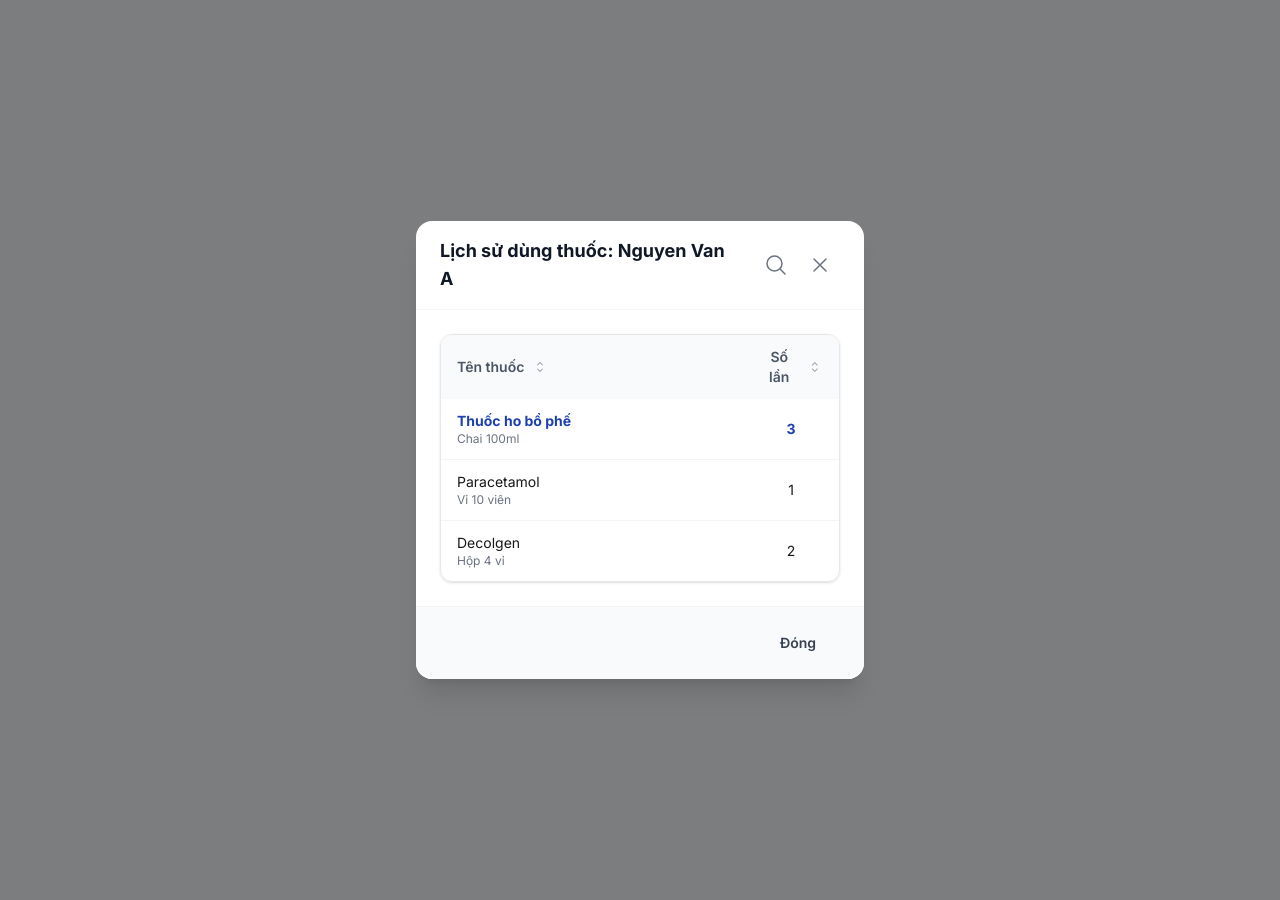
Test: MedicineUsageDialog - Phase 01 & 02 Tests › filters by name and packing specification (Vietnamese & case-insensitive)
expect the table is shown: met, box [441,335,839,581]
# Toggle search
Click the button named "toggle search": click(776, 265) [756,245,796,285]
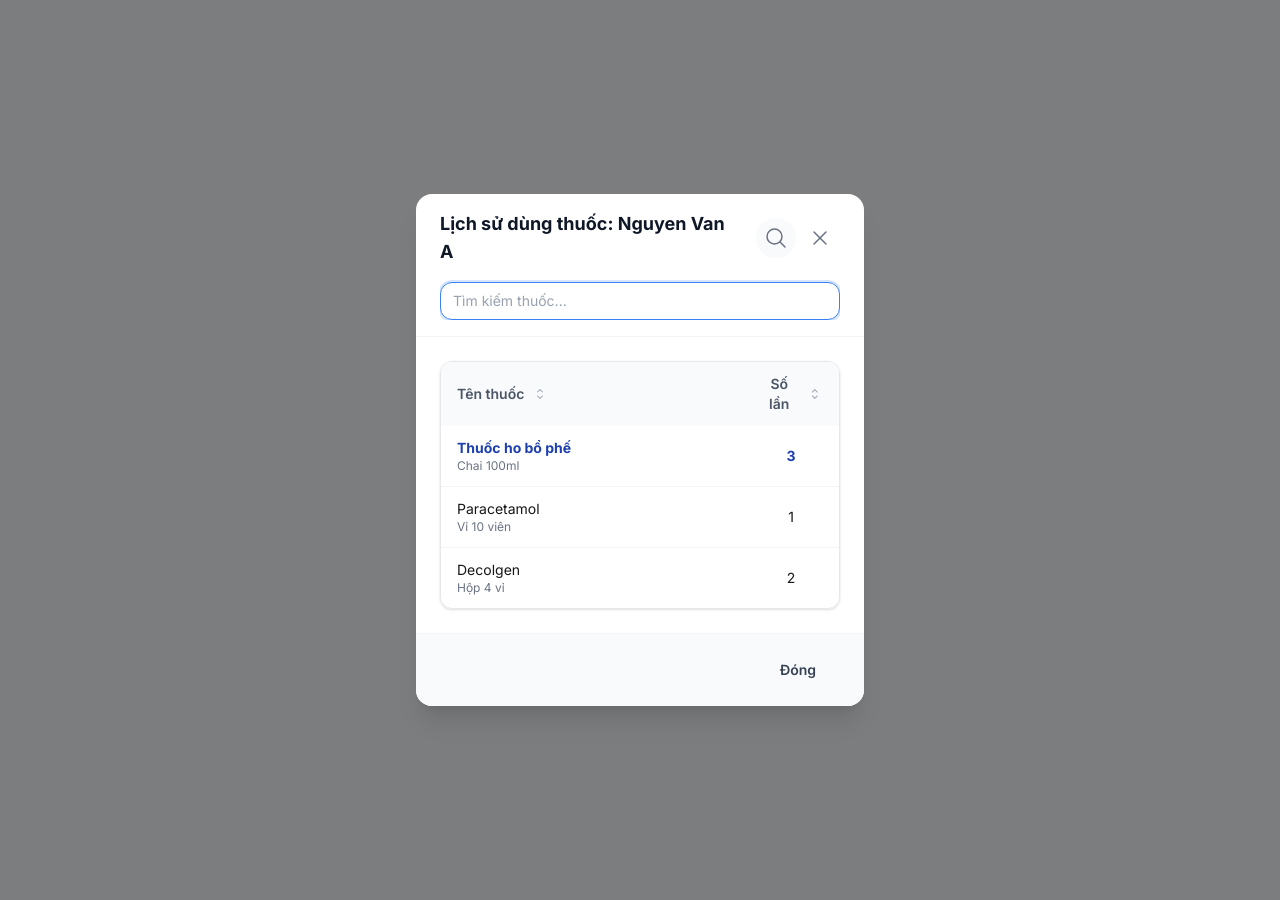
In the field with placeholder "Tìm kiếm thuốc...": (640, 301) [440,282,840,320], type "thuoc ho"
Wait 300 ms
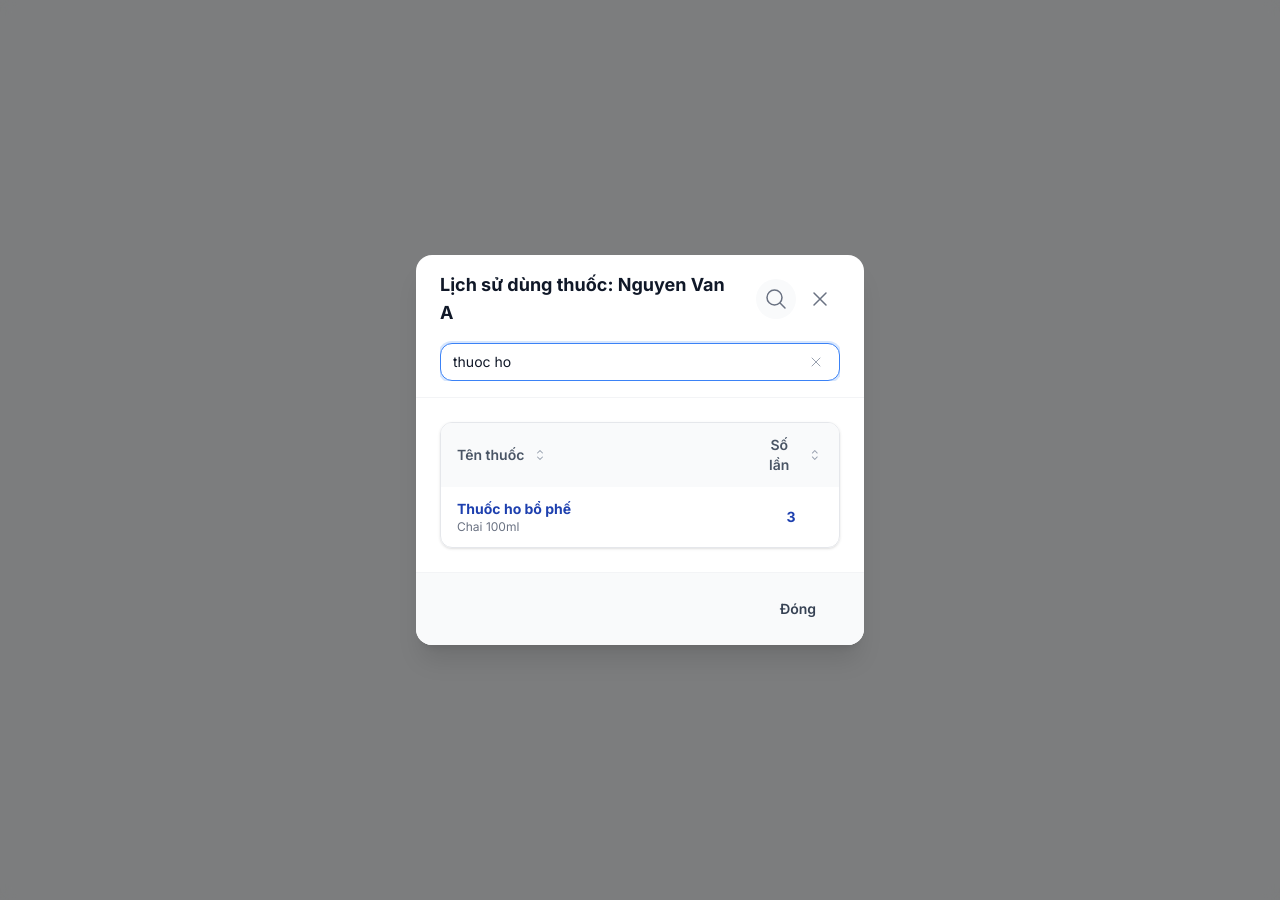
expect the text "Thuốc ho bổ phế" is shown: met, box [457,500,571,517]
expect the text "Paracetamol" is gone: met
expect the text "Decolgen" is gone: met
Replace the text in the field with placeholder "Tìm kiếm thuốc..." with "VI": (640, 362) [440,343,840,381]
Wait 300 ms
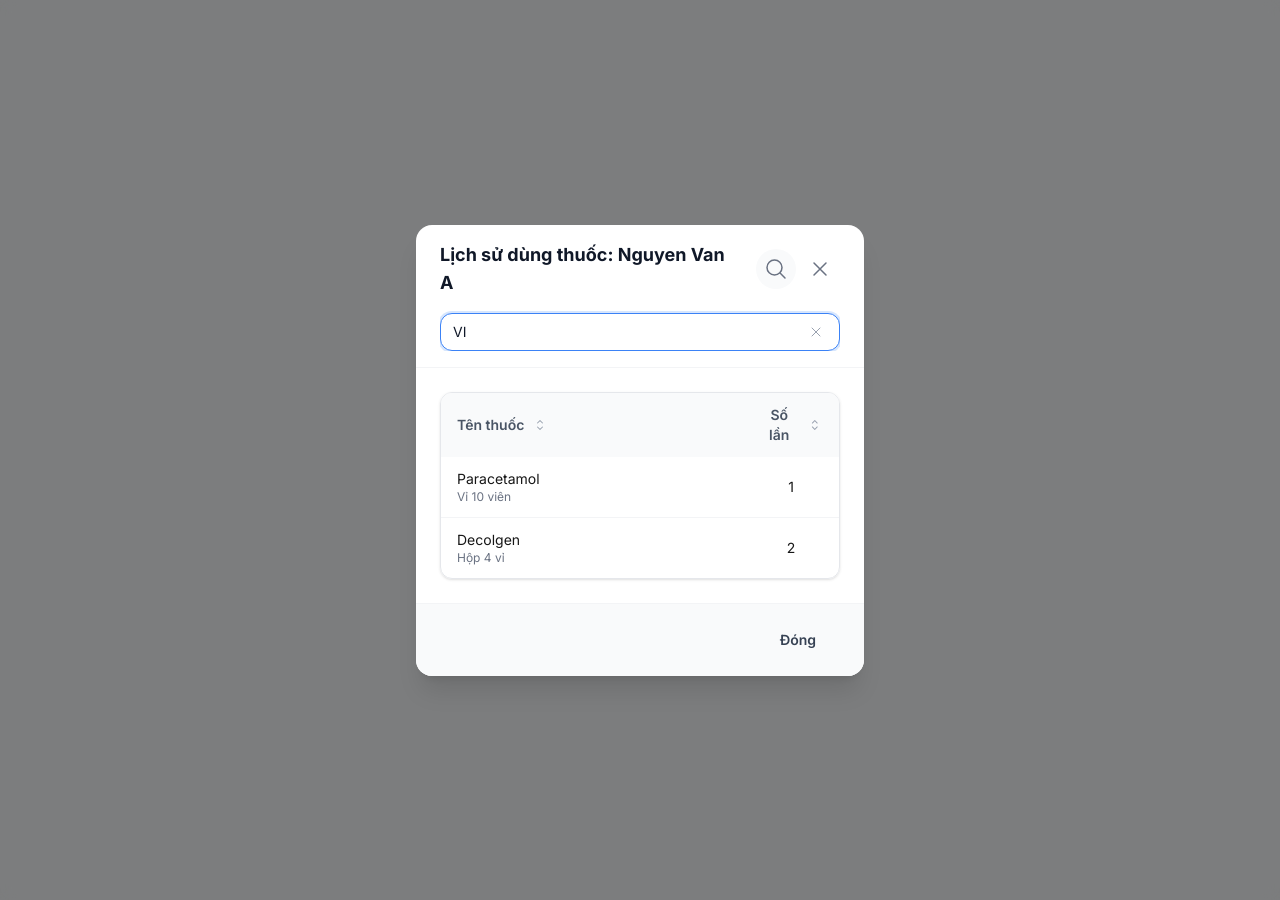
expect the text "Paracetamol" is shown: met, box [457,470,540,486]
expect the text "Decolgen" is shown: met, box [457,530,520,548]
expect the text "Thuốc ho bổ phế" is gone: met
Replace the text in the field with placeholder "Tìm kiếm thuốc..." with "bổ phế": (640, 332) [440,312,840,350]
Wait 300 ms
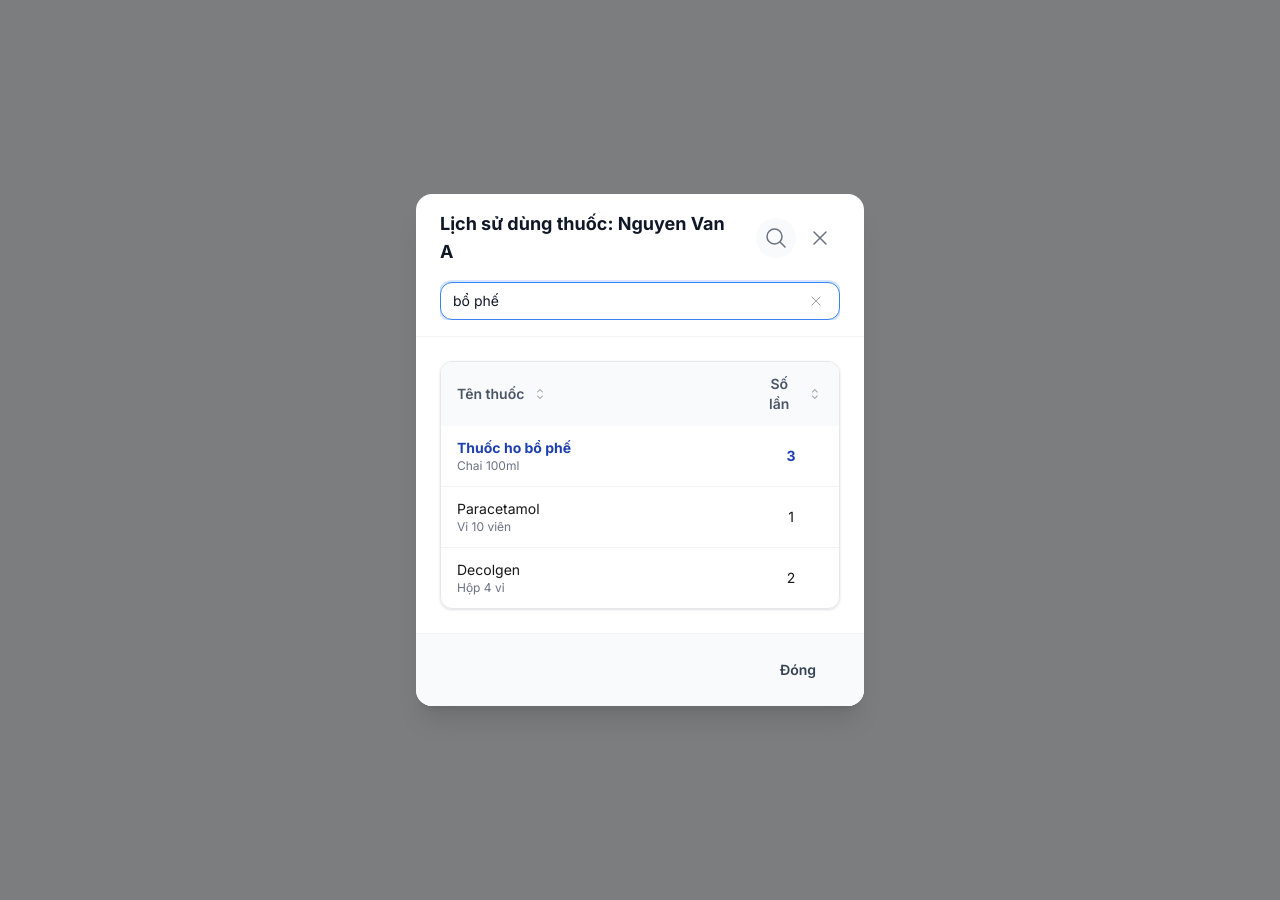
expect the text "Thuốc ho bổ phế" is shown: met, box [457,439,571,456]
